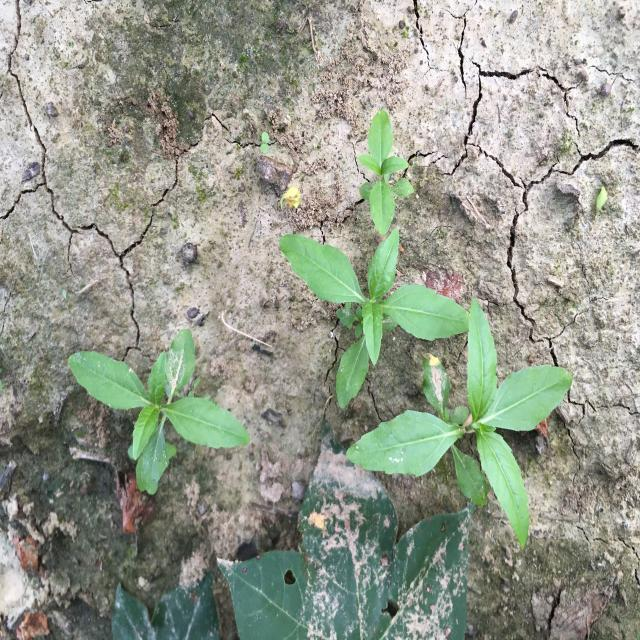Eclipta: (344, 294, 574, 552), (277, 226, 474, 410), (66, 326, 252, 496), (356, 108, 415, 236)
